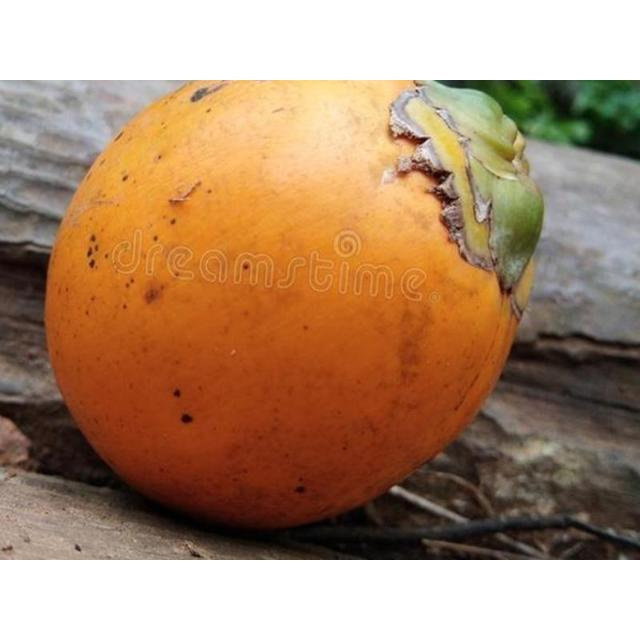good: (44, 80, 546, 535)
